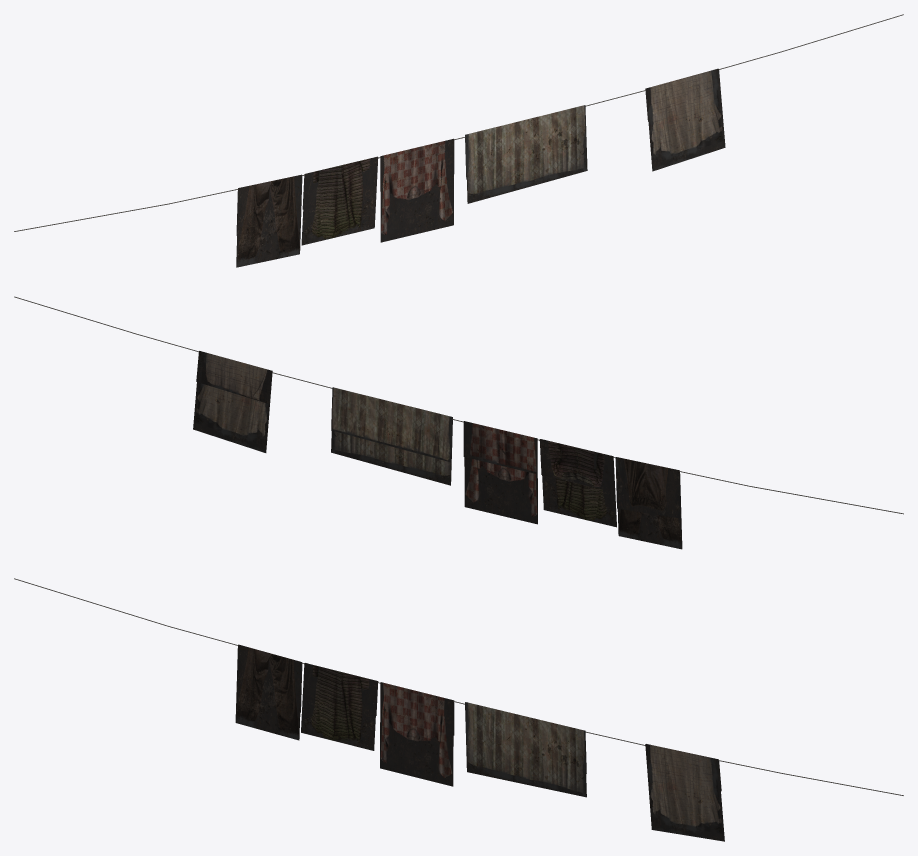
The model's file is Rags1.fbx.
3 renders of one model, top to bottom at view 1: azimuth 30°, elevation 25°; view 2: azimuth 150°, elevation 25°; view 3: azimuth 330°, elevation 25°, orthographic.
Parts seen in each view (by area): view 1: rags:default2; view 2: rags:default2; view 3: rags:default2.
Part boxes in pixels (x1,y1,x2,y2): rags:default2: (14,14,903,267); rags:default2: (14,296,903,549); rags:default2: (14,578,903,841).
Bounding box in the file's own units: 56.03 × 6.08 × 0.0665.
